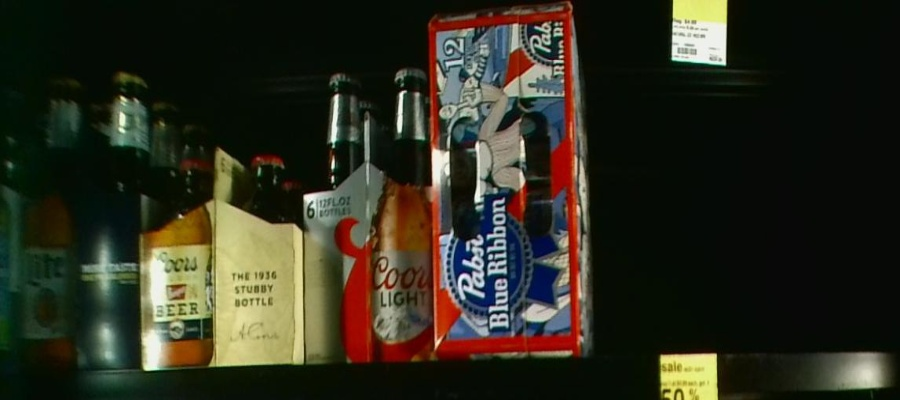bottle: (430, 8, 595, 361), (304, 68, 431, 363), (144, 151, 301, 365), (81, 66, 137, 372), (22, 72, 74, 373)
